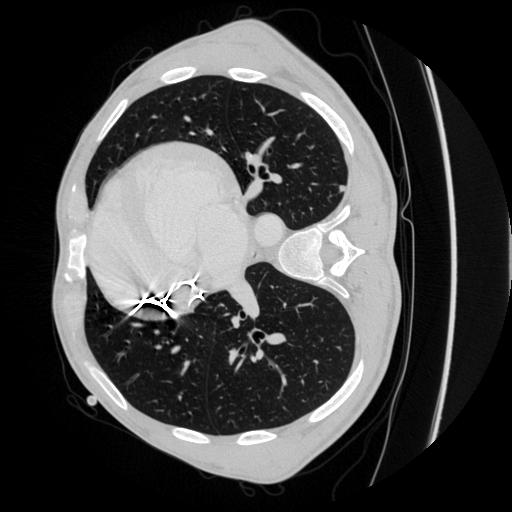nodule: (336, 183, 348, 195)
